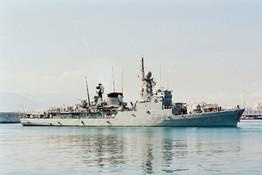warship: (18, 56, 245, 127)
